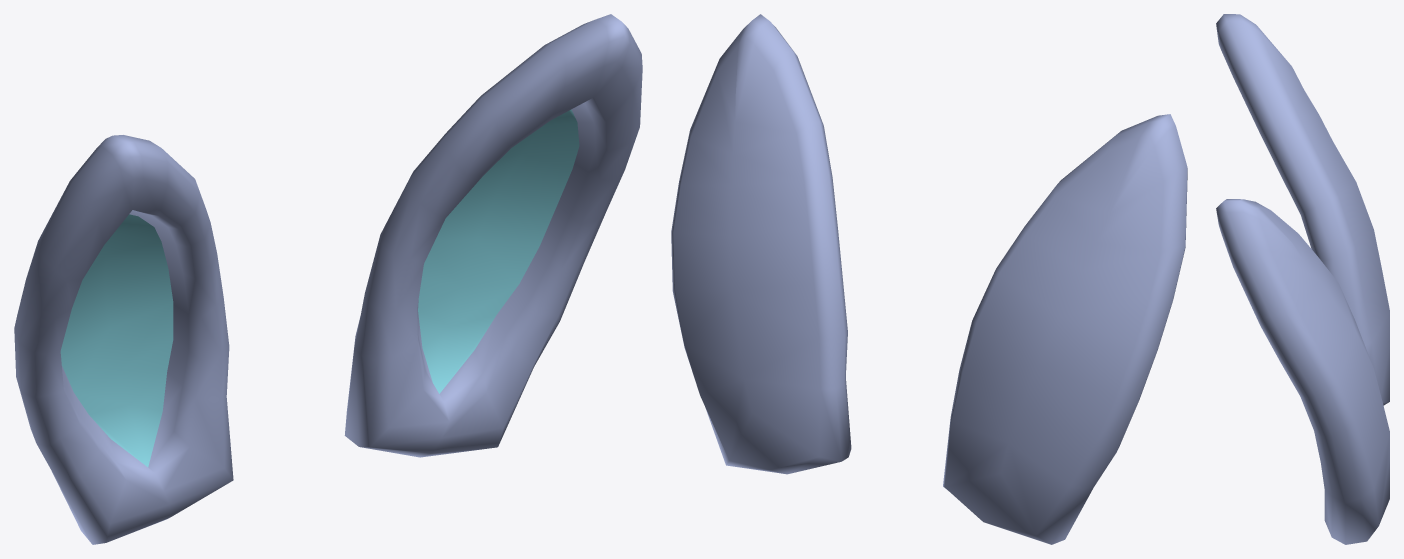
Rendered from Hat_65_02.fbx.
3 views of the same model, side by side, from view 1: azimuth 30°, elevation 25°; view 2: azimuth 150°, elevation 25°; view 3: azimuth 270°, elevation 25° (orthographic). The views are drawn at different scales.
Parts seen in each view (by area): view 1: Hat_65_02; view 2: Hat_65_02; view 3: Hat_65_02.
Part boxes in pixels (box(x1,y1,x2,y2)): Hat_65_02: box(14, 14, 642, 544); Hat_65_02: box(671, 14, 1187, 544); Hat_65_02: box(1216, 14, 1389, 544).
Bounding box in the file's own units: 33.47 × 25.32 × 11.02.
